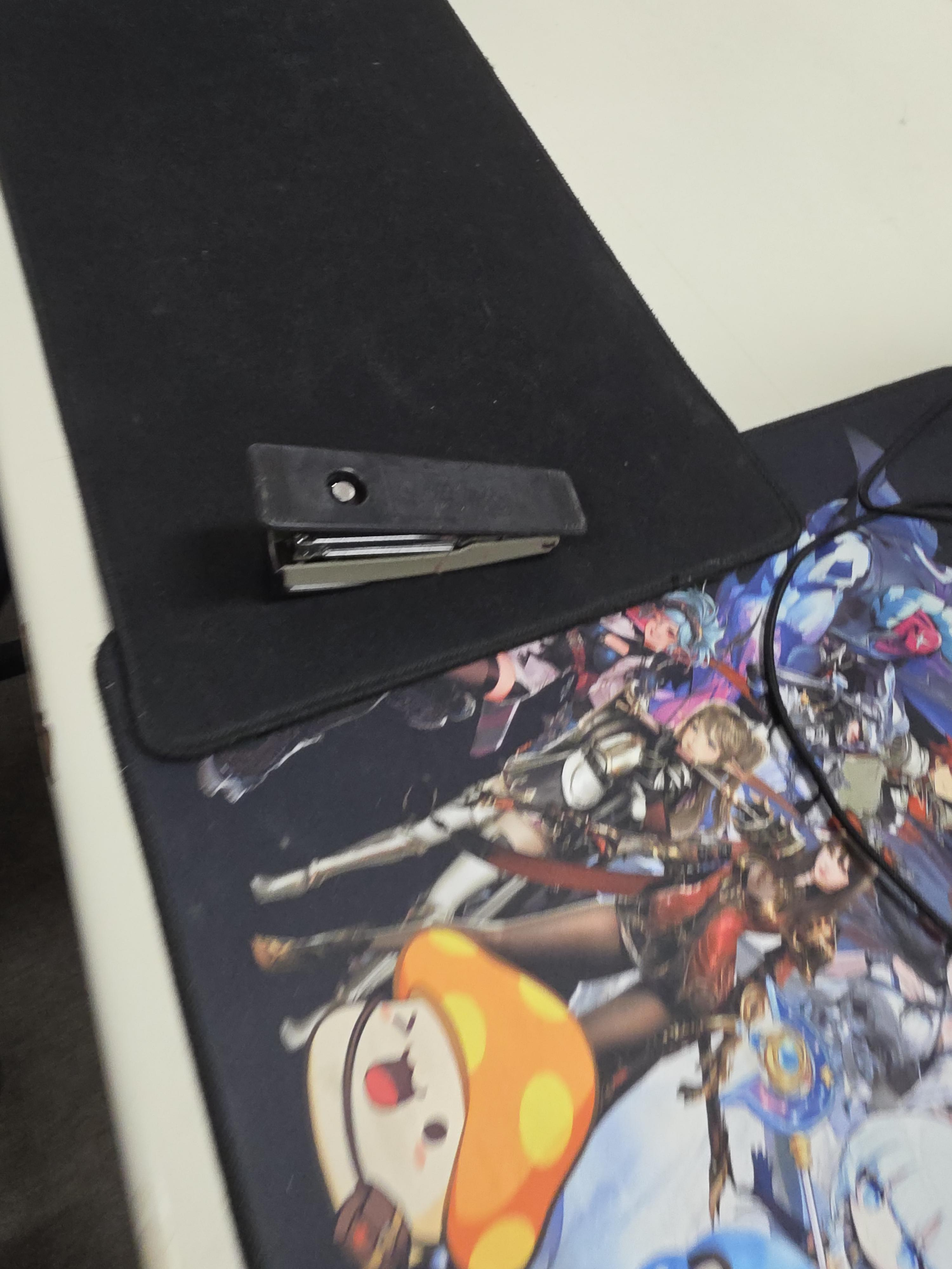stapler: (247, 441, 590, 595)
